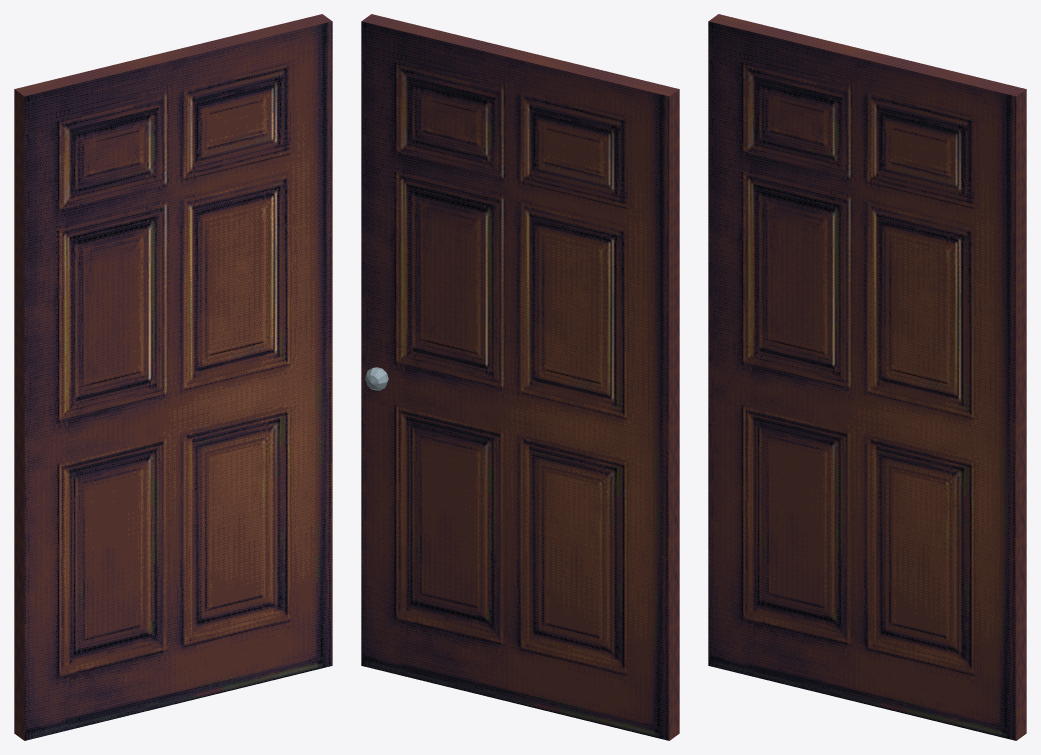
The model's file is door_09.glb.
3 views of the same model, side by side, from view 1: azimuth 30°, elevation 25°; view 2: azimuth 150°, elevation 25°; view 3: azimuth 330°, elevation 25° (orthographic).
Parts seen in each view (by area): view 1: pCube25.001; view 2: pCube25.001; view 3: pCube25.001.
Boxes of the visible parts, box(x1,y1,x2,y2) form: pCube25.001: box(14, 14, 332, 740); pCube25.001: box(361, 14, 679, 740); pCube25.001: box(708, 14, 1026, 740).
Size of the model in its own units: 1.05 by 2.1 by 0.1192.
2 materials, 2 textured.
